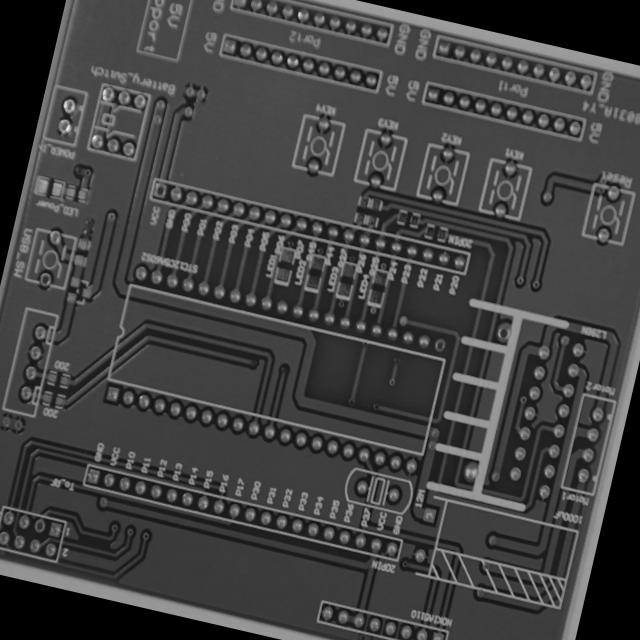missing_hole: (493, 319, 514, 346), (33, 267, 55, 291), (150, 178, 170, 203), (30, 514, 50, 538), (430, 334, 450, 354)
